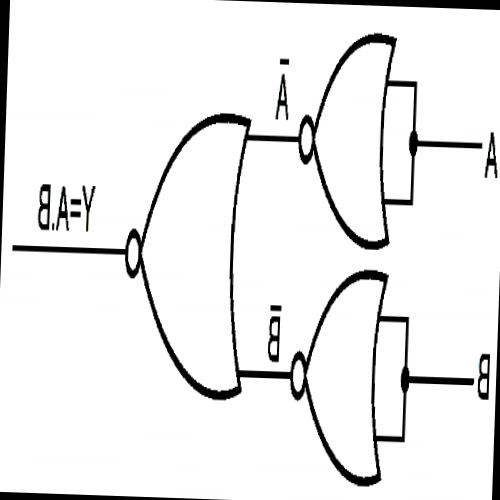nor: (111, 94, 257, 416), (289, 16, 403, 260), (282, 256, 395, 497)
